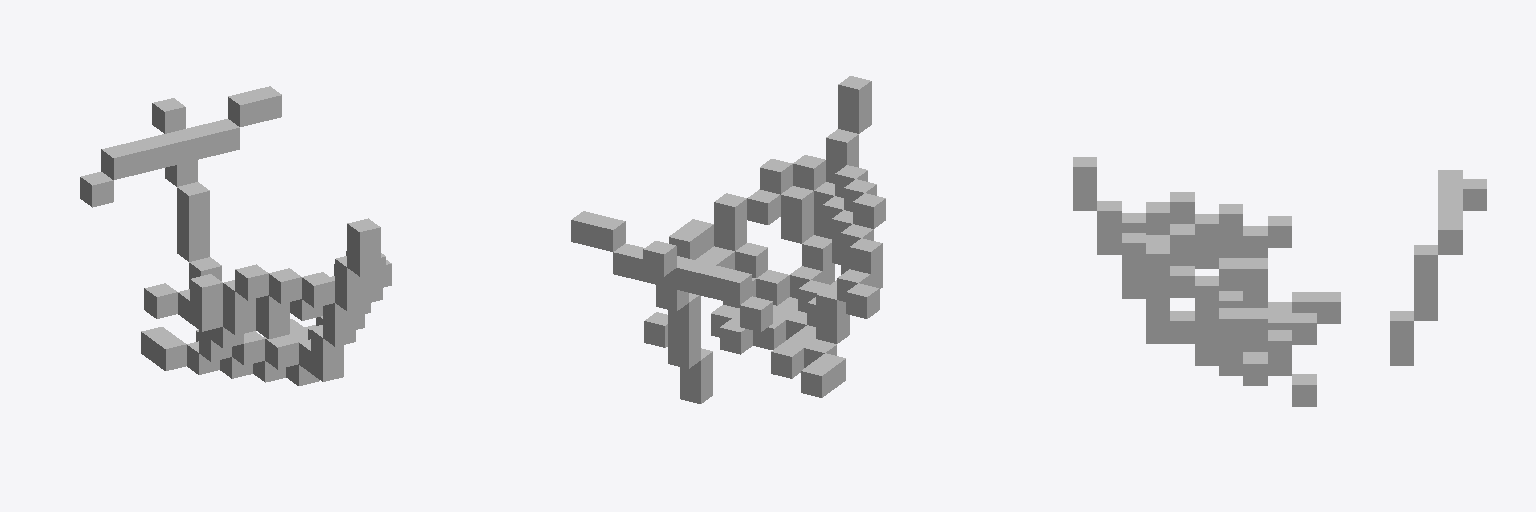
File: Barco.obj
The picture shows the model from 3 angles: view 1: azimuth 30°, elevation 25°; view 2: azimuth 150°, elevation 25°; view 3: azimuth 270°, elevation 25°; orthographic projection.
Parts seen in each view (by area): view 1: object 1; view 2: object 1; view 3: object 1.
Part boxes in pixels (x1,y1,x2,y2): object 1: (80,86,391,385); object 1: (571,76,885,403); object 1: (1073,157,1486,406).
Bounding box in the file's own units: 1 × 0.9 × 1.7.